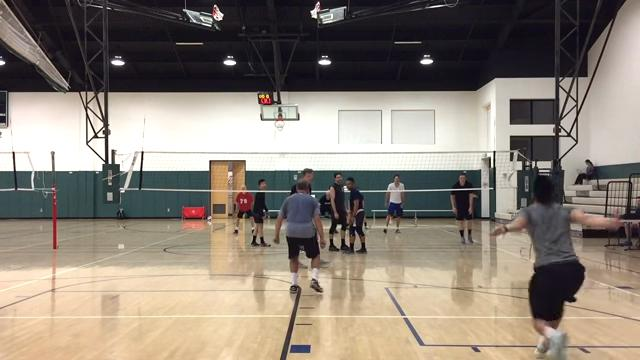Player: (492, 176, 619, 358), (274, 179, 325, 292), (344, 177, 366, 253), (450, 173, 473, 243), (329, 172, 348, 250), (251, 179, 270, 246), (383, 174, 404, 232), (234, 185, 254, 233), (302, 168, 313, 194), (290, 185, 296, 194)
